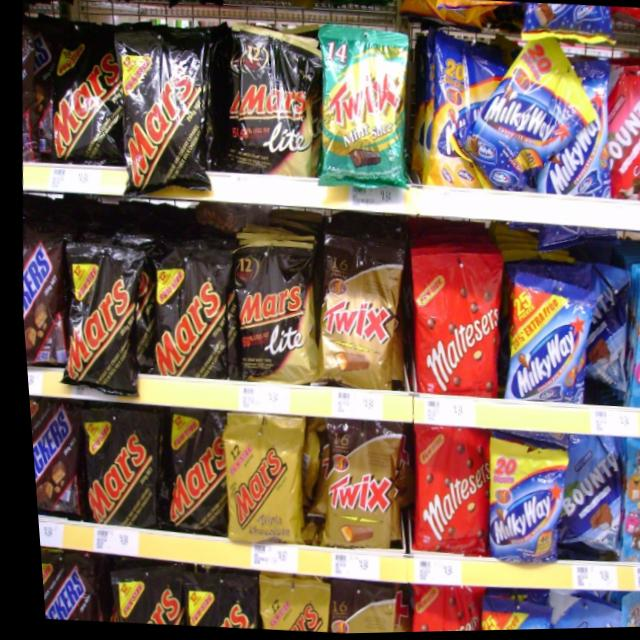q142: (13, 230, 66, 375), (23, 395, 77, 521)
